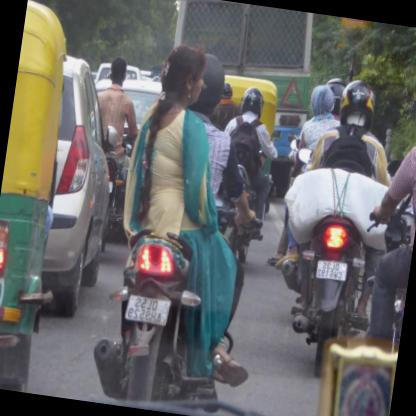bus: (156, 0, 320, 198)
car: (28, 52, 130, 322)
motorcycle: (86, 40, 283, 415), (273, 74, 401, 385), (218, 86, 284, 267)
